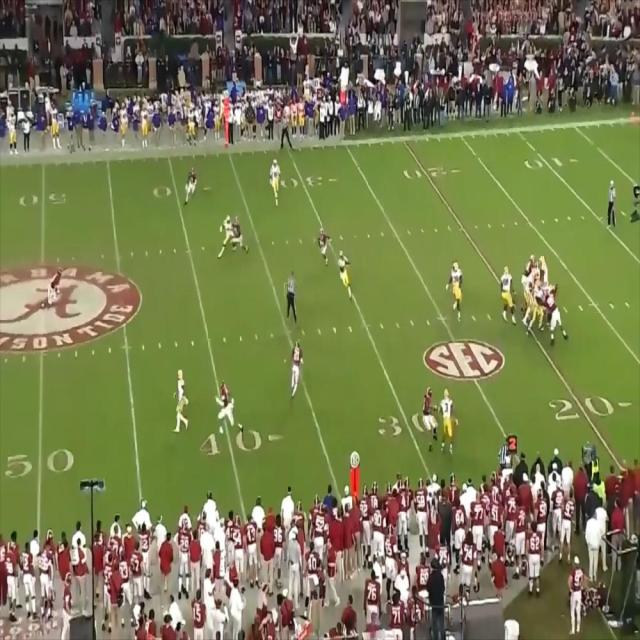db: (221, 383, 236, 429), (292, 339, 302, 394), (51, 270, 63, 307), (186, 165, 198, 200), (319, 228, 330, 262)
lb: (423, 385, 436, 450), (232, 217, 242, 255)
skill: (440, 387, 454, 450), (339, 248, 353, 305), (176, 370, 186, 432), (219, 217, 231, 257), (272, 160, 280, 206)
